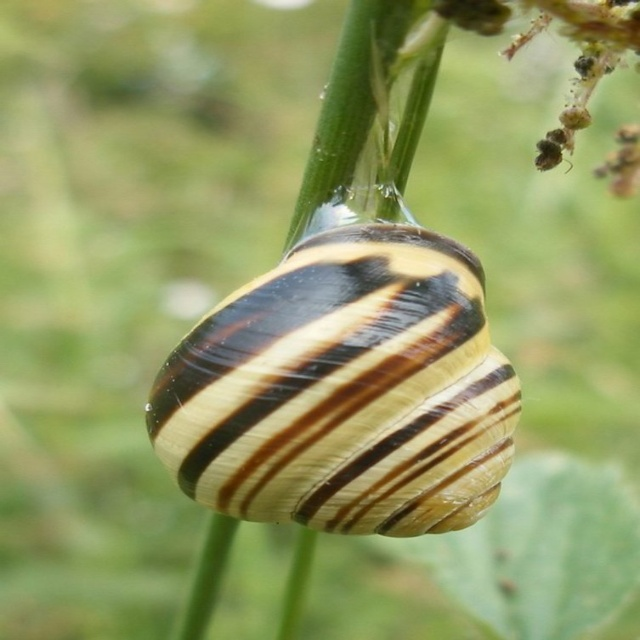Snail: (137, 215, 520, 543)
